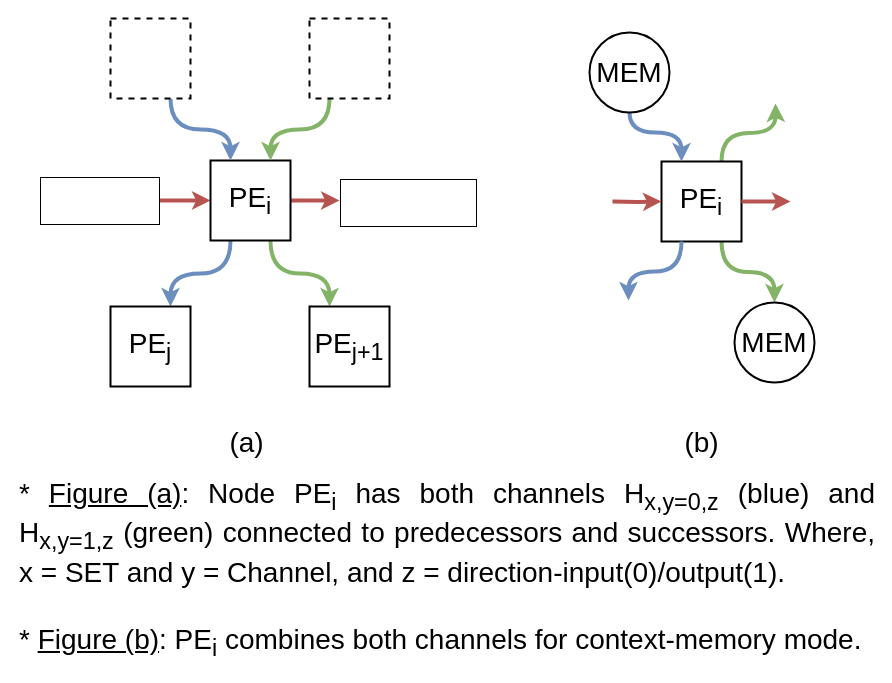
This 892x683 diagram has some shape labels left out. Here are the shapes that lost their labels. From the top down, the box of each, then its label:
(40, 176, 160, 224): DMA_in
(340, 178, 476, 226): DMA_out
